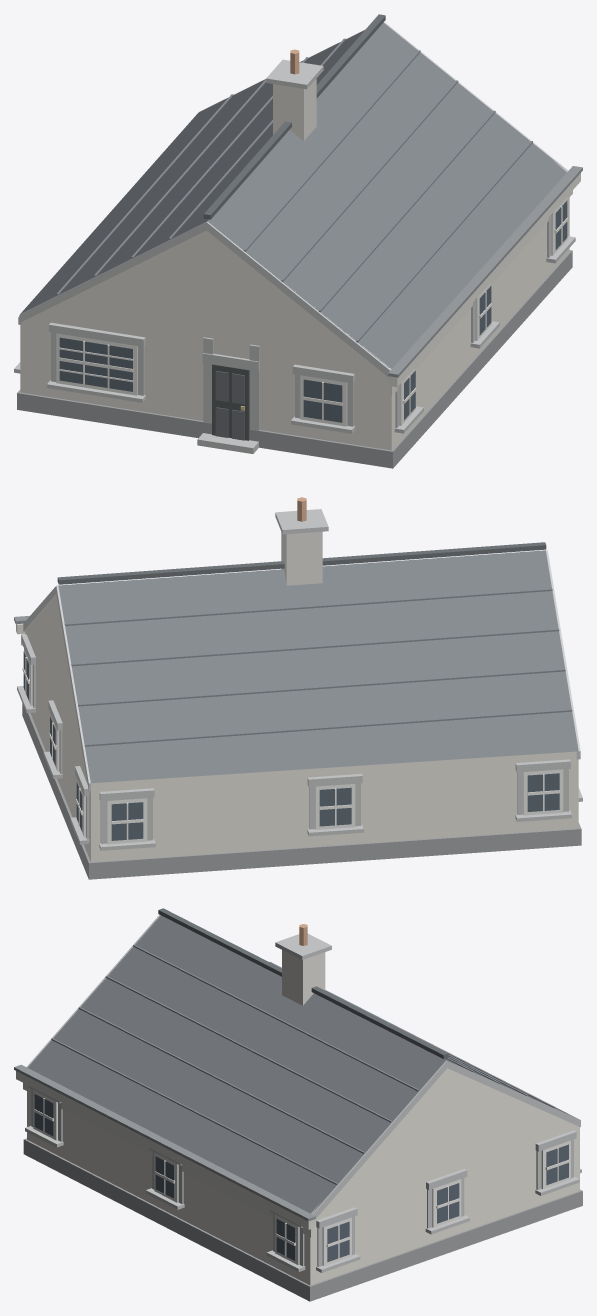
The picture shows the model from 3 angles, top to bottom: view 1: azimuth 30°, elevation 25°; view 2: azimuth 150°, elevation 25°; view 3: azimuth 270°, elevation 25°; orthographic projection. The views are drawn at different scales.
Parts seen in each view (by area): view 1: slate, harl_cream, stone_band, plinth, slate_lt, frame, lead, window_glass_002, string, slate_dk, chim_render, door_dark_p (+2 smaller); view 2: slate, harl_cream, plinth, stone_band, slate_lt, slate_dk, frame, chim_render, window_glass_007, window_glass_006, window_glass_008; view 3: slate, harl_cream, plinth, stone_band, slate_lt, string, frame, lead, slate_dk, chim_render, window_glass_004, window_glass_003 (+4 smaller).
Part boxes in pixels (<box>): slate: <box>20,22,567,369</box>; harl_cream: <box>20,198,569,450</box>; stone_band: <box>14,22,575,453</box>; plinth: <box>17,250,572,468</box>; slate_lt: <box>56,38,532,342</box>; frame: <box>56,196,567,426</box>; lead: <box>388,166,582,377</box>; window_glass_002: <box>59,337,132,391</box>; string: <box>388,173,580,396</box>; slate_dk: <box>203,14,385,219</box>; chim_render: <box>273,79,316,140</box>; door_dark_p: <box>215,371,244,440</box>; slate: <box>58,550,578,783</box>; harl_cream: <box>25,596,578,861</box>; plinth: <box>22,703,581,879</box>; stone_band: <box>17,509,582,850</box>; slate_lt: <box>64,588,572,746</box>; slate_dk: <box>57,542,546,584</box>; frame: <box>22,649,563,844</box>; chim_render: <box>281,531,322,585</box>; window_glass_007: <box>319,787,351,826</box>; window_glass_006: <box>111,802,143,840</box>; window_glass_008: <box>527,773,559,811</box>; slate: <box>27,915,576,1213</box>; harl_cream: <box>27,1068,579,1285</box>; plinth: <box>23,1138,582,1301</box>; stone_band: <box>25,914,581,1272</box>; slate_lt: <box>51,944,555,1184</box>; string: <box>16,1071,314,1237</box>; frame: <box>33,1090,570,1265</box>; lead: <box>14,1064,315,1221</box>; slate_dk: <box>158,908,448,1059</box>; chim_render: <box>282,950,325,1005</box>; window_glass_004: <box>437,1183,459,1223</box>; window_glass_003: <box>327,1221,349,1262</box>.
Bounding box in the file's own units: 16.06 × 7.69 × 15.6.
